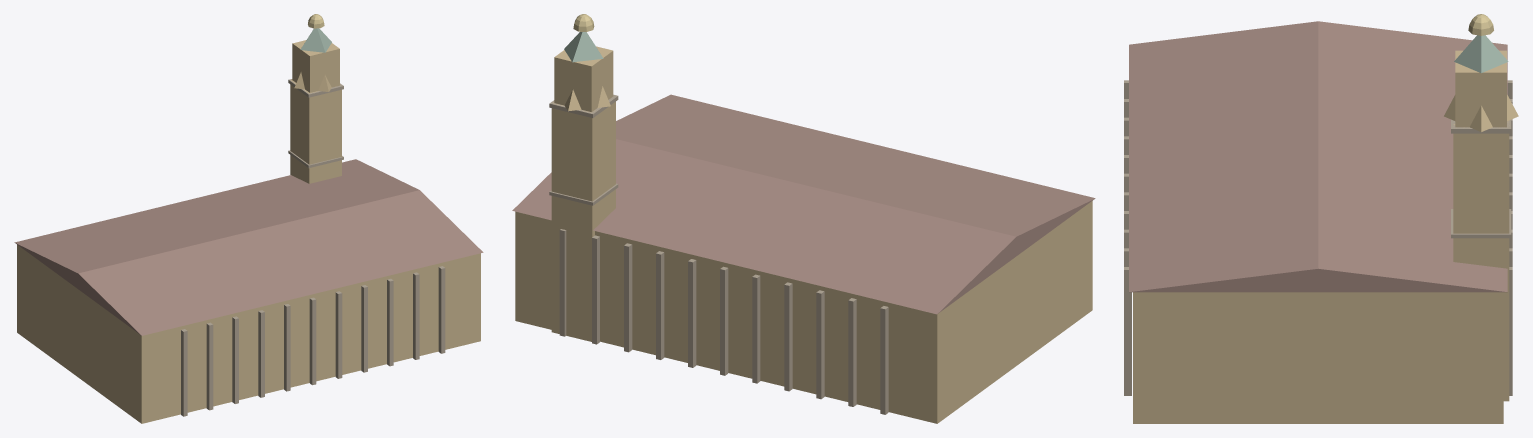
Rendered from catedralsevilla.glb.
The picture shows the model from 3 angles, left to right: view 1: azimuth 30°, elevation 25°; view 2: azimuth 150°, elevation 25°; view 3: azimuth 270°, elevation 25°; orthographic projection. The views are drawn at different scales.
Bounding box in the file's own units: 136 × 96 × 91.67.
